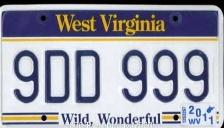9: (12, 48, 42, 104), (183, 47, 212, 103), (121, 47, 149, 104), (152, 47, 180, 103)
D: (74, 48, 102, 105), (44, 48, 71, 105)
